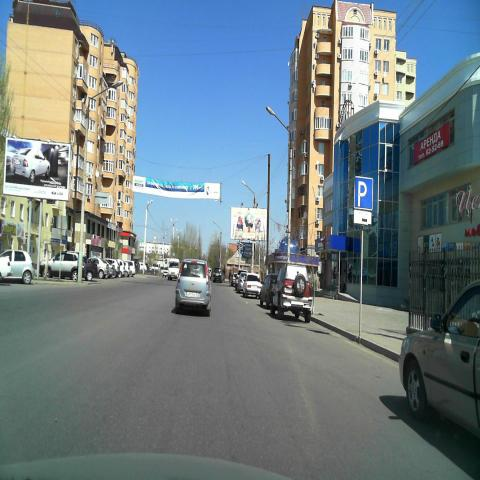8_6_2: (354, 211, 372, 224)
